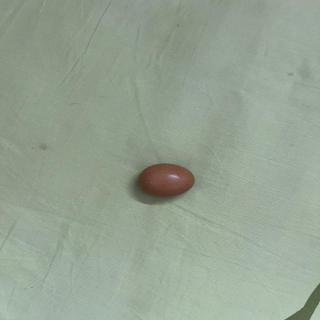Telur: (136, 159, 201, 199)
